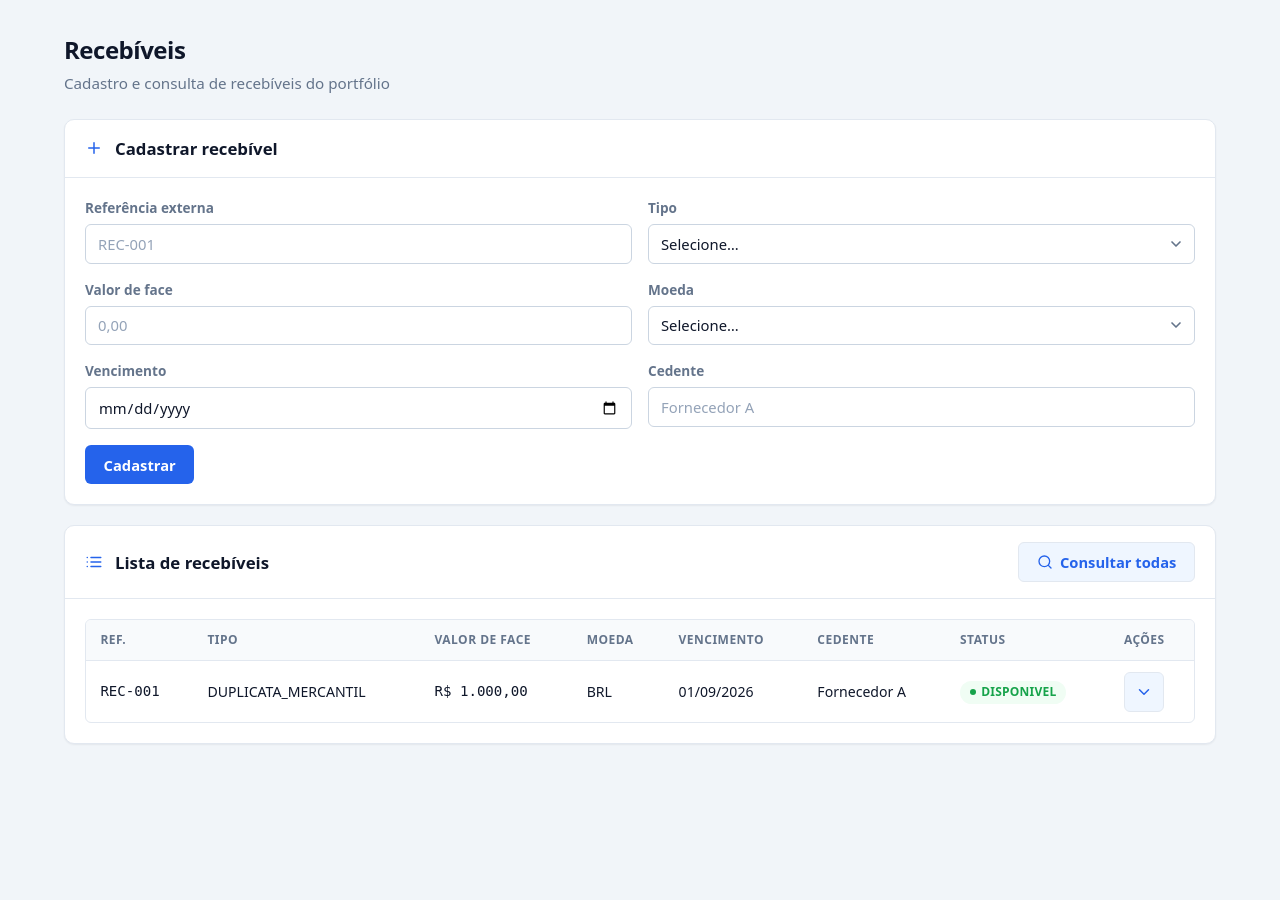
RecebiveisPage › creates a receivable and shows the confirmation
In the field labelled "Referência externa": (358, 244) [85,224,632,264], type "REC-100"
Select "CHEQUE_PRE_DATADO" in the dropdown labelled "Tipo": (922, 244) [648,224,1195,264]
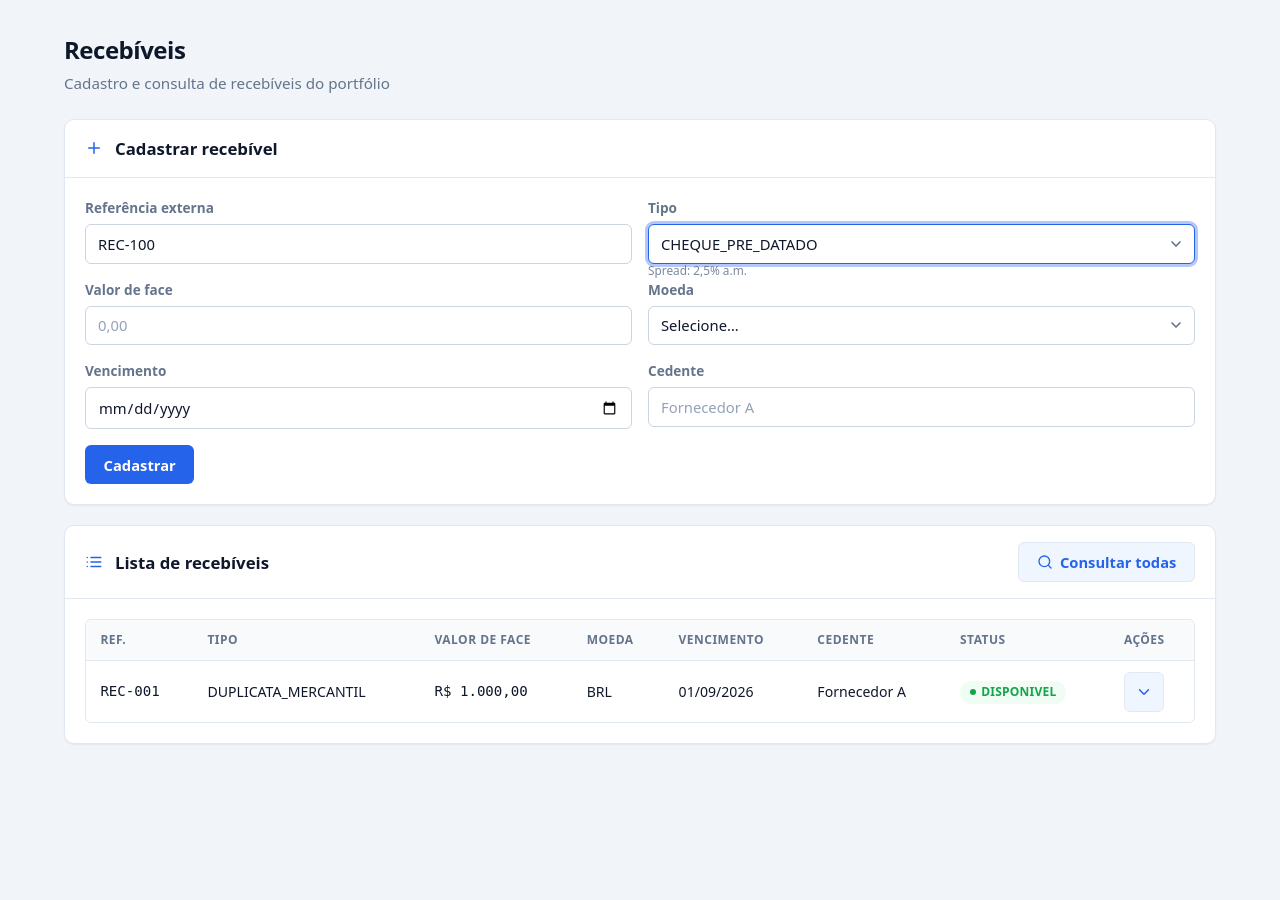
Expected: the text "Spread: 2,5% a.m." is shown, [648,262,747,280]
In the number field labelled "Valor de face": (358, 325) [85,306,632,345], type "500"
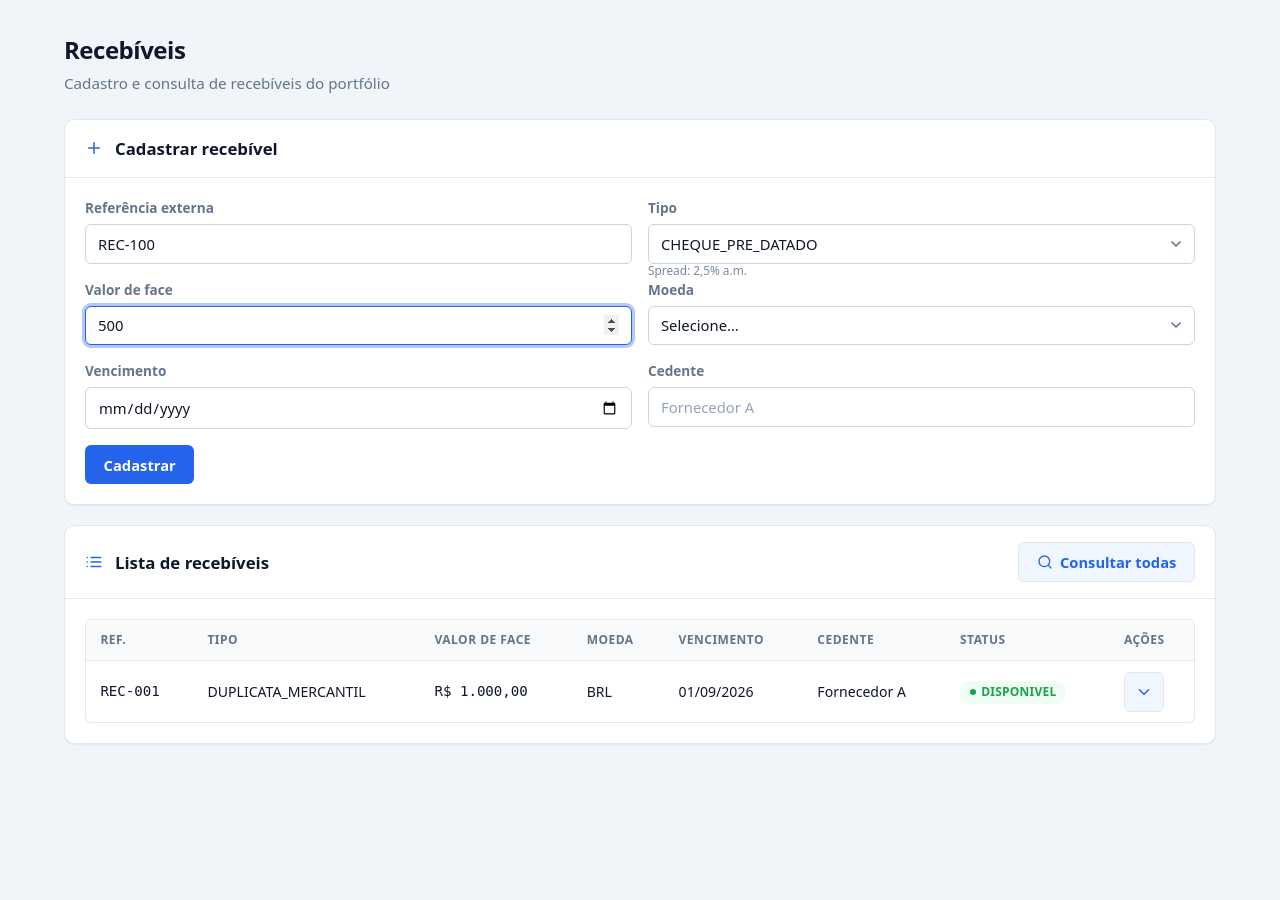
Select "USD" in the dropdown labelled "Moeda": (922, 325) [648,306,1195,345]
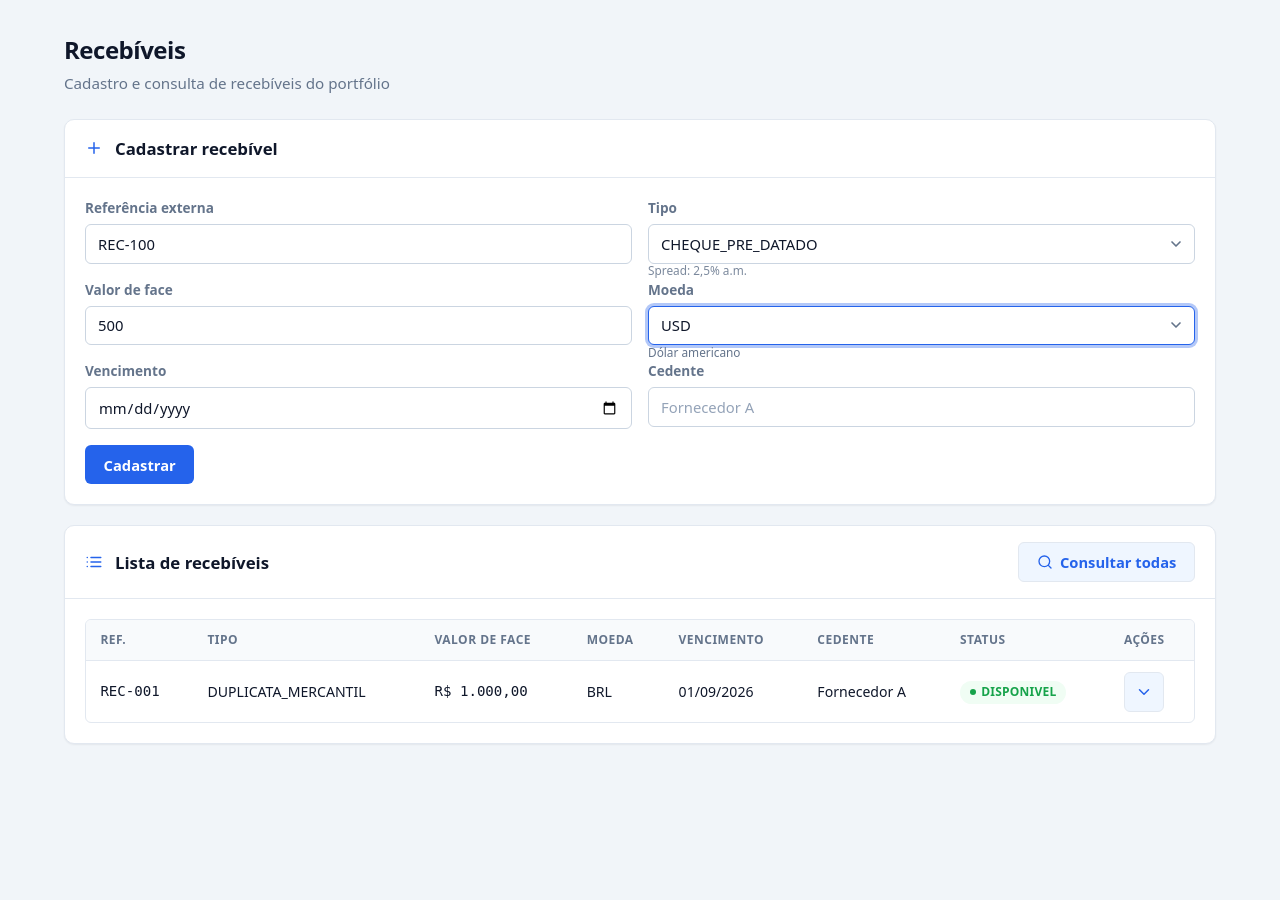
Expected: the text "Dólar americano" is shown, [648,344,740,361]
In the date field labelled "Vencimento": (358, 408) [85,387,632,429], type "2026-09-01"
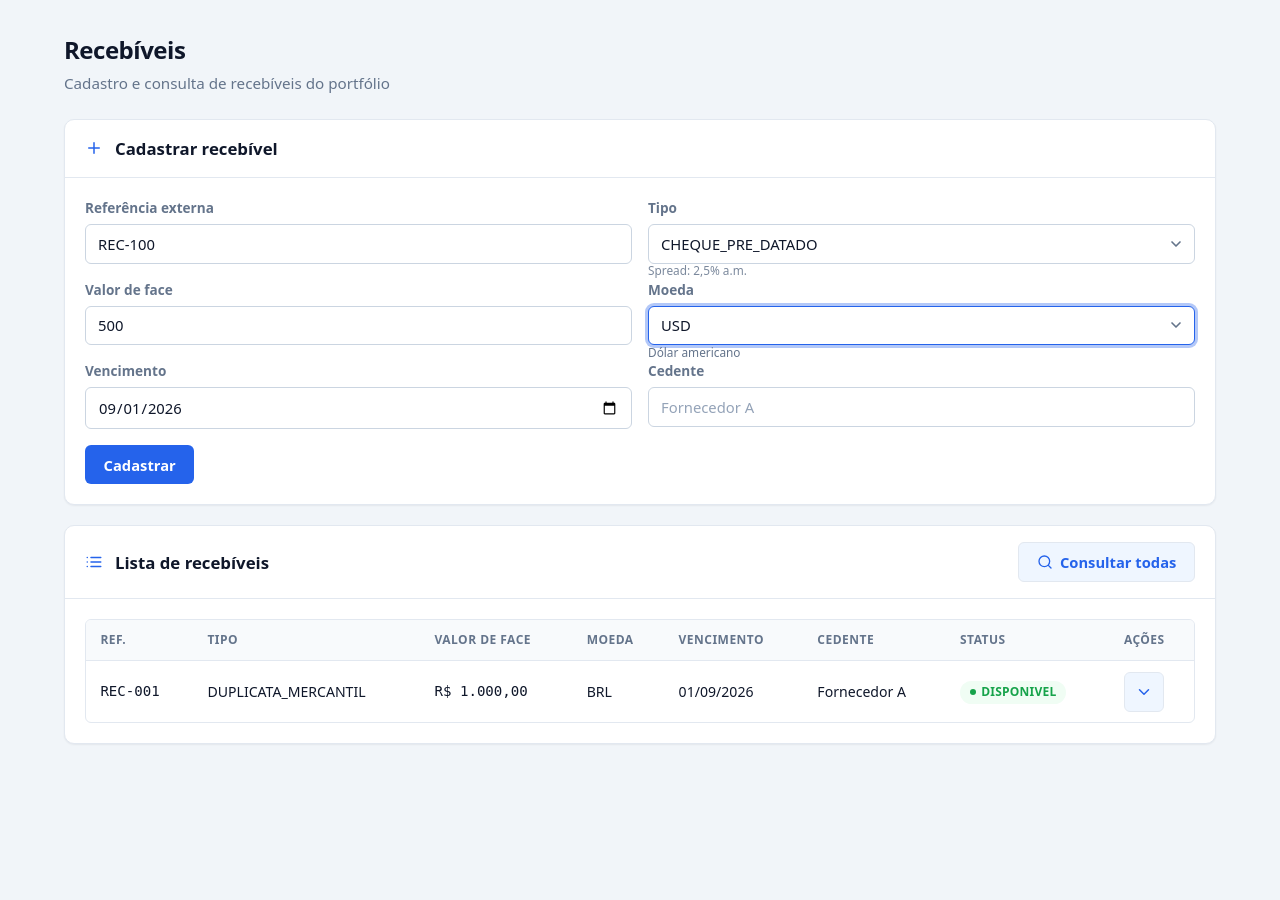
In the field labelled "Cedente": (922, 407) [648,387,1195,427], type "Fornecedor C"
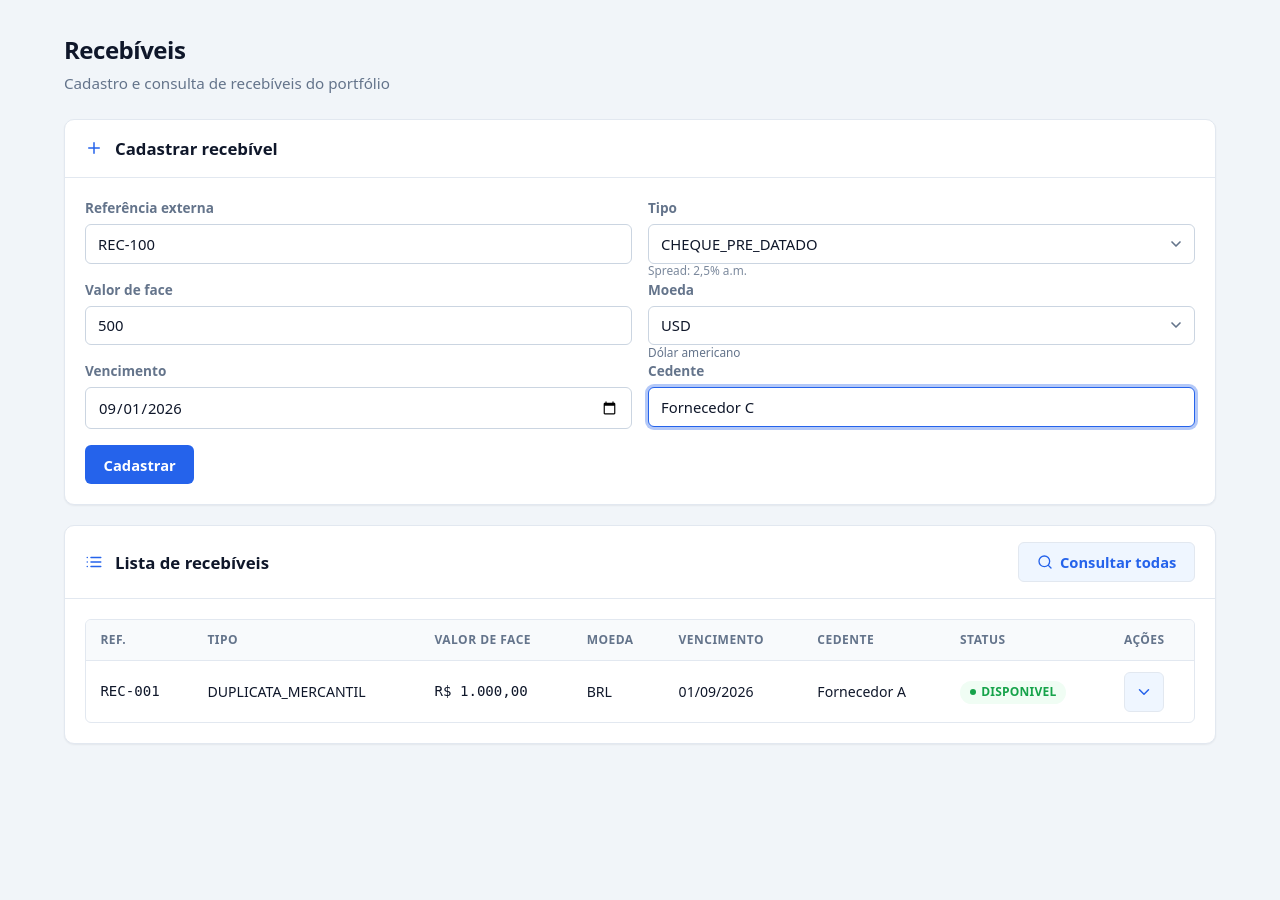
Click the button "Cadastrar": (140, 464) [85,445,194,484]
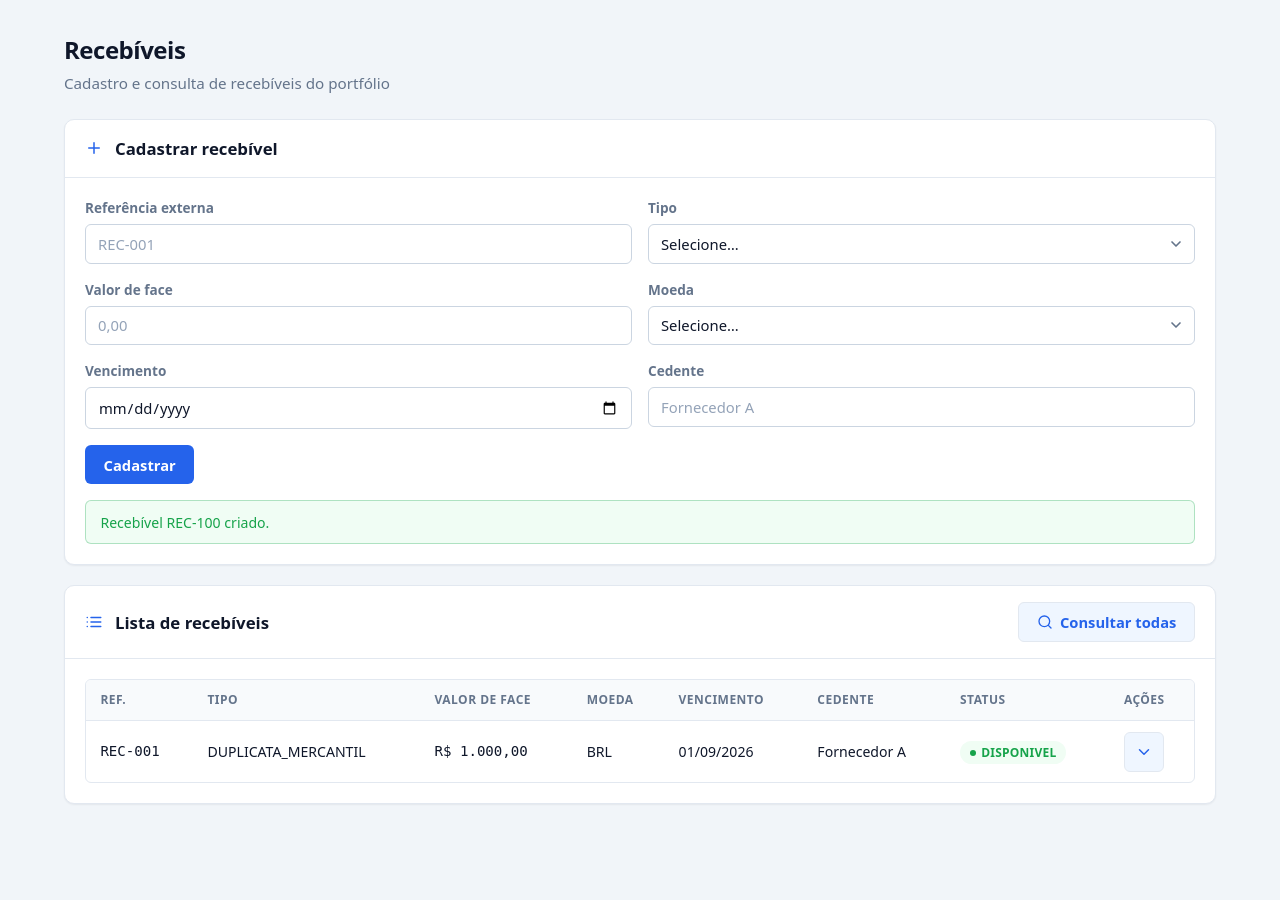
Expected: the text "Recebível REC-100 criado." is shown, [85,500,1195,544]
